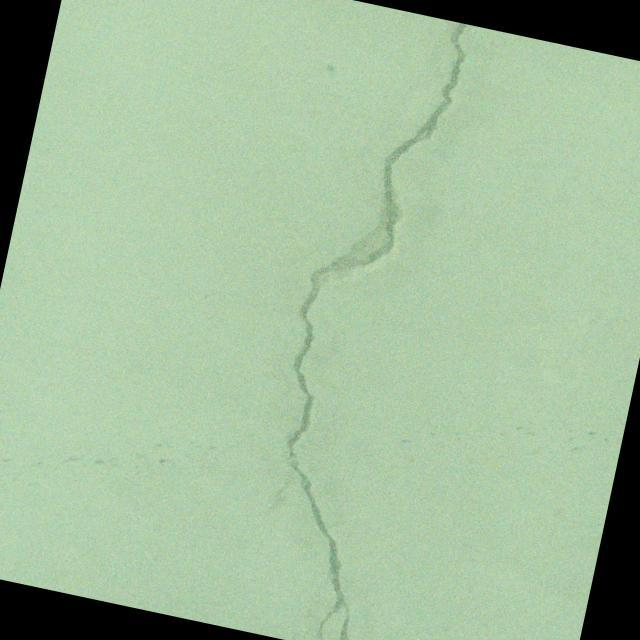crack: (230, 2, 484, 640)
